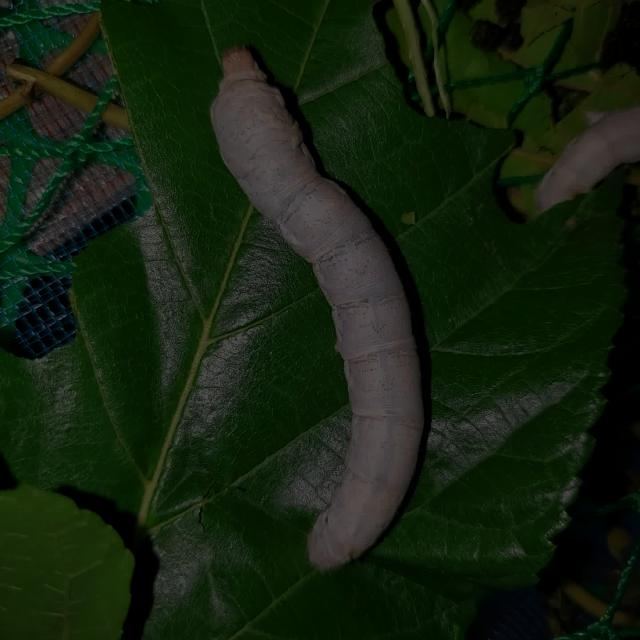Healthy: (169, 20, 492, 585)
